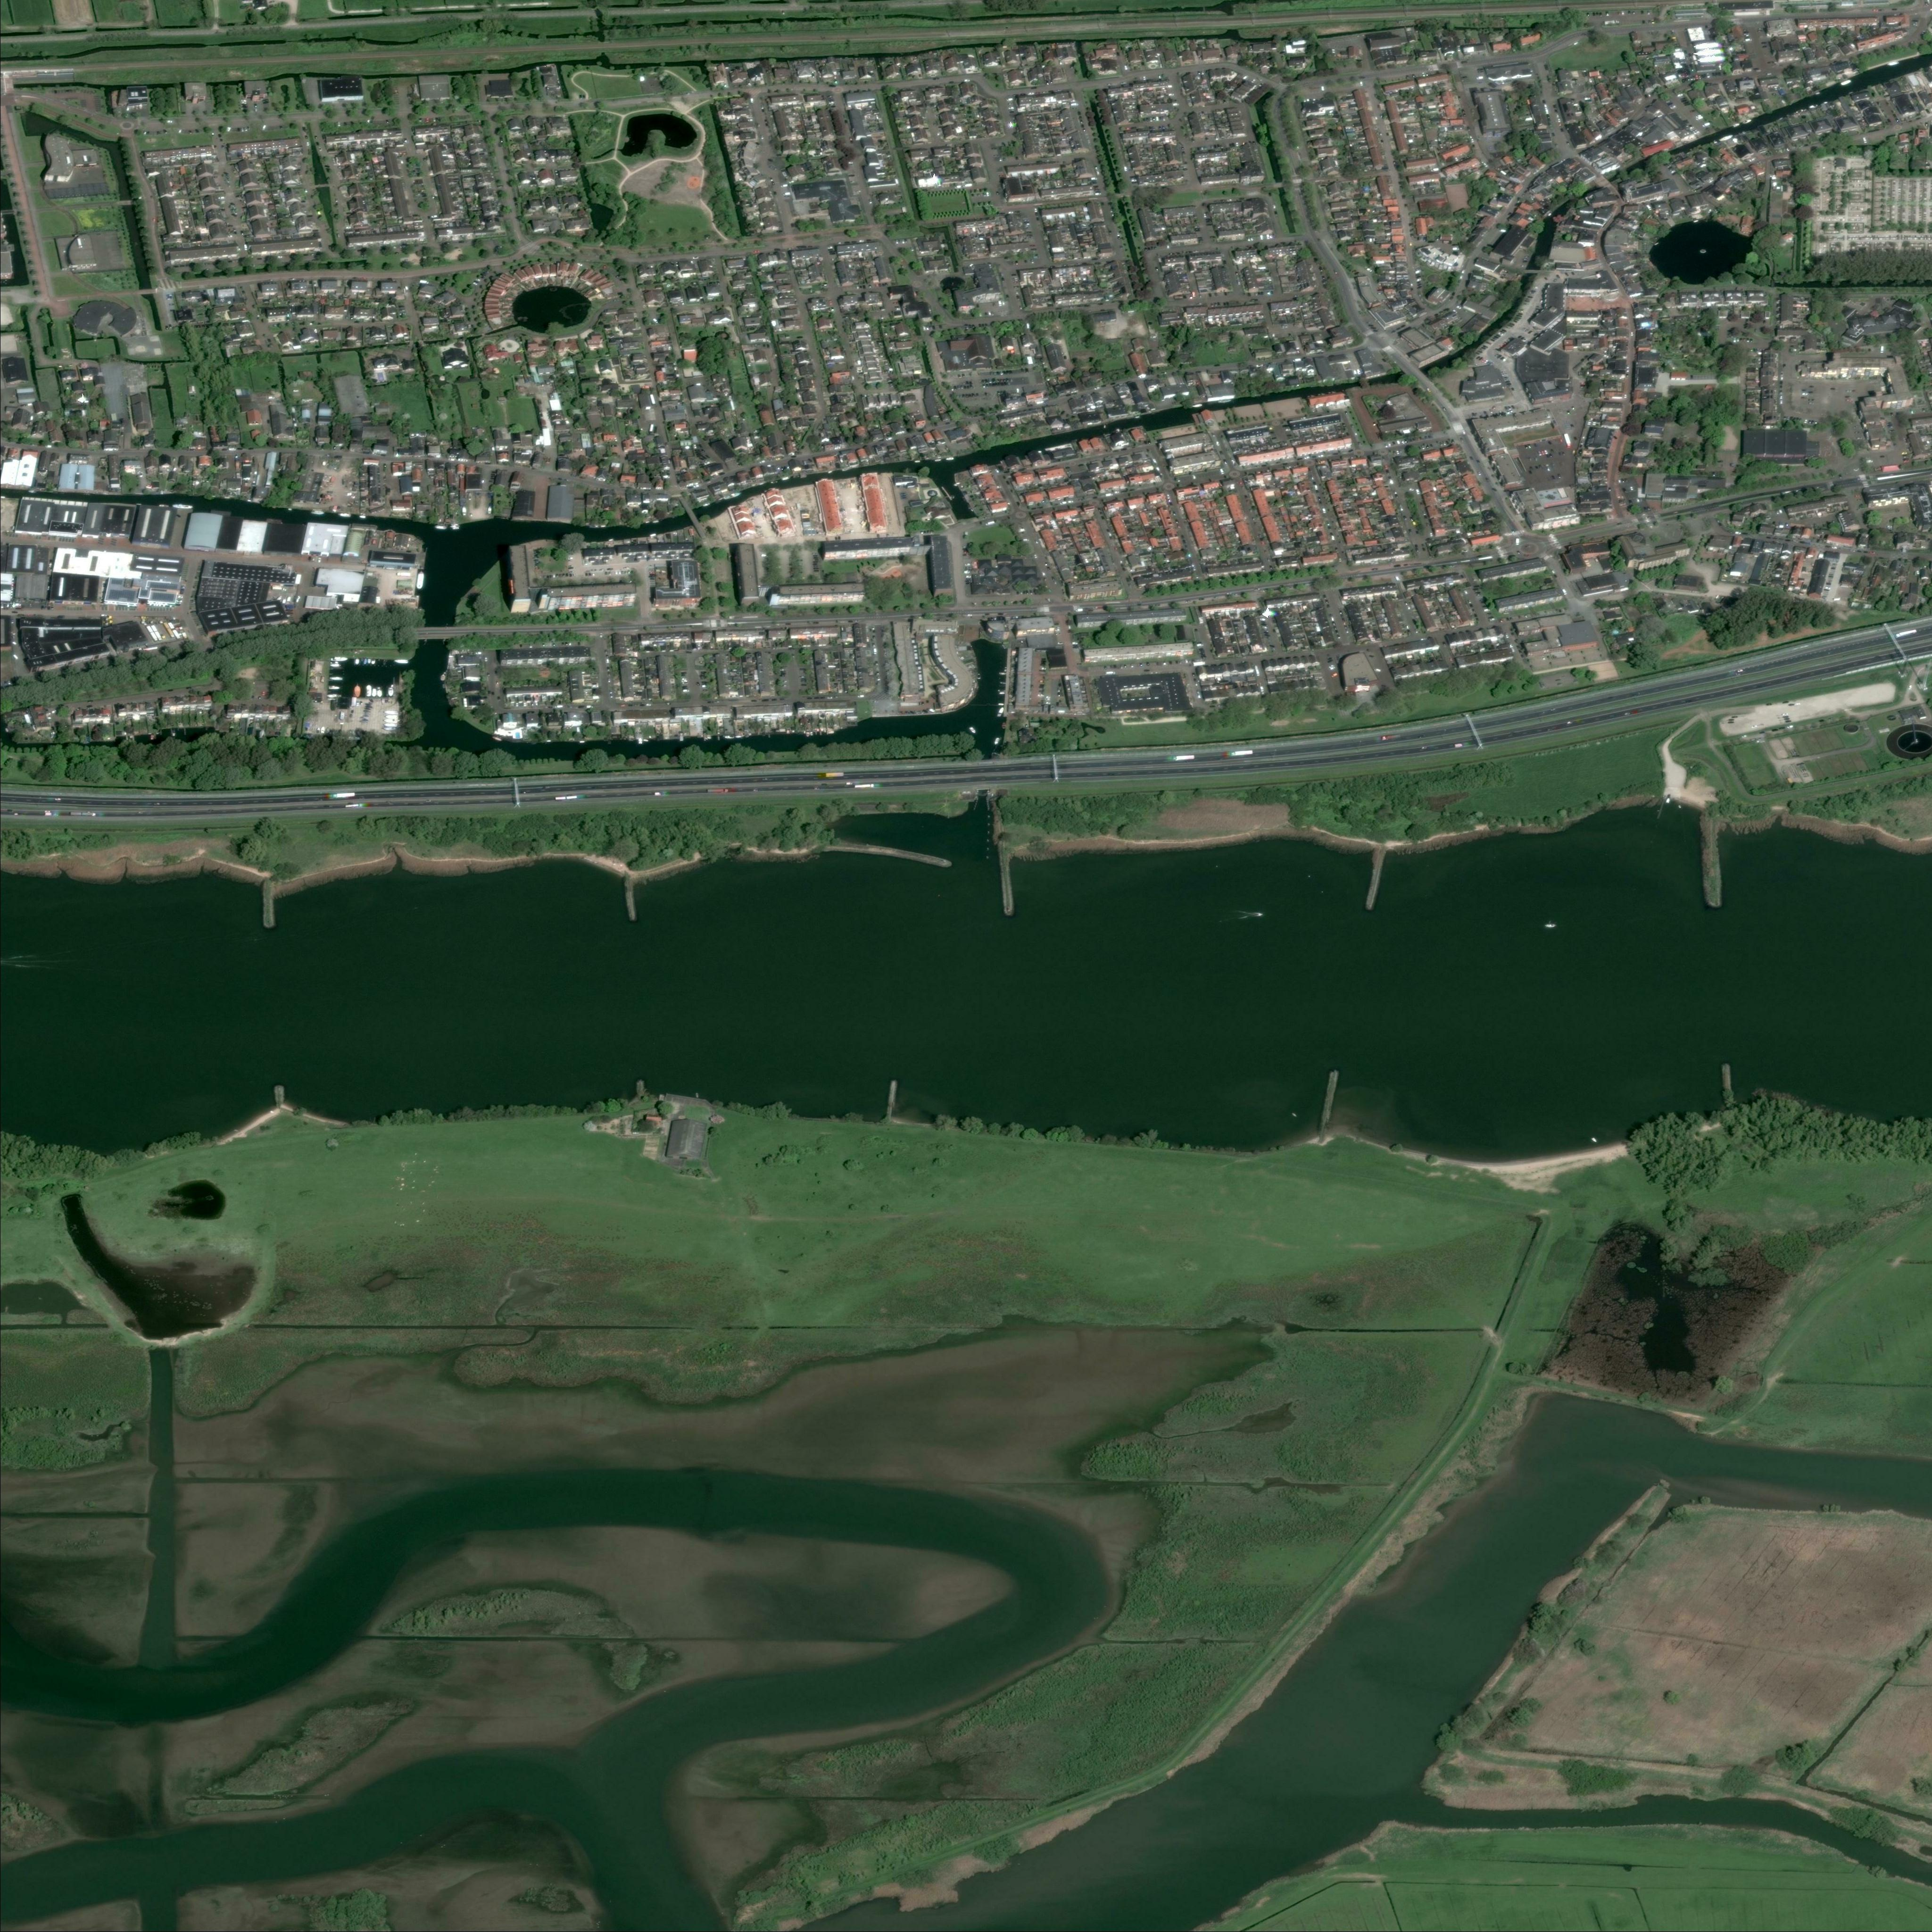harbor: (939, 487, 954, 502)
ship: (416, 570, 425, 591), (724, 492, 743, 501), (173, 502, 193, 510), (968, 725, 978, 736), (996, 706, 1005, 718), (354, 685, 361, 697), (329, 676, 345, 681), (311, 510, 326, 515), (327, 694, 341, 699), (387, 686, 395, 697), (384, 718, 398, 724), (395, 658, 409, 663), (338, 513, 352, 518), (366, 685, 372, 697), (433, 525, 446, 531), (331, 658, 349, 662), (377, 686, 382, 697), (462, 506, 467, 517), (1192, 403, 1203, 409), (384, 711, 398, 715), (384, 715, 398, 718), (1217, 400, 1231, 403), (994, 736, 1000, 745), (384, 724, 396, 727), (384, 727, 396, 731), (363, 658, 368, 665), (329, 686, 340, 690), (320, 727, 326, 734), (159, 504, 170, 508), (331, 663, 341, 667), (373, 688, 377, 697), (469, 492, 472, 501), (488, 506, 492, 515), (945, 456, 954, 460), (356, 658, 359, 665), (359, 515, 366, 518), (372, 660, 375, 665), (368, 658, 370, 663)
